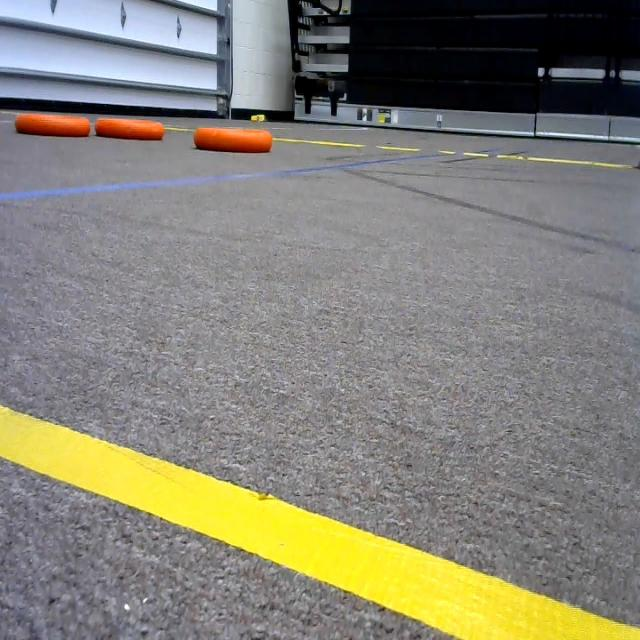note: (191, 110, 279, 162), (9, 103, 95, 148), (94, 105, 171, 147)
